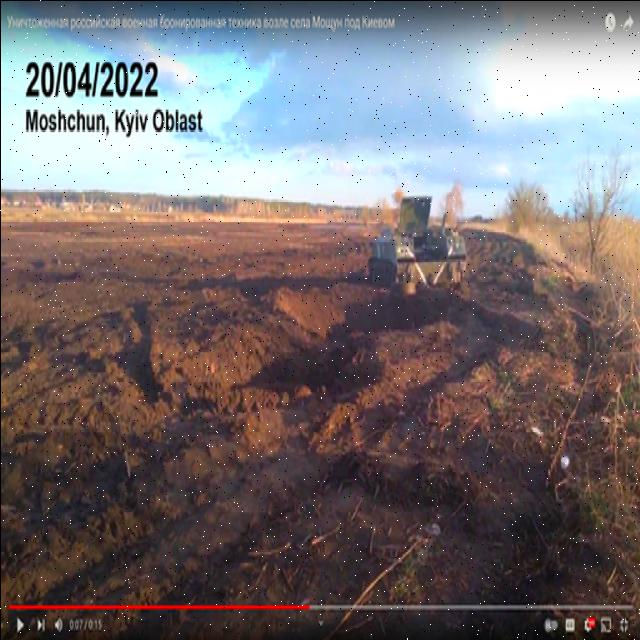APC-IFV: (360, 191, 465, 307)
